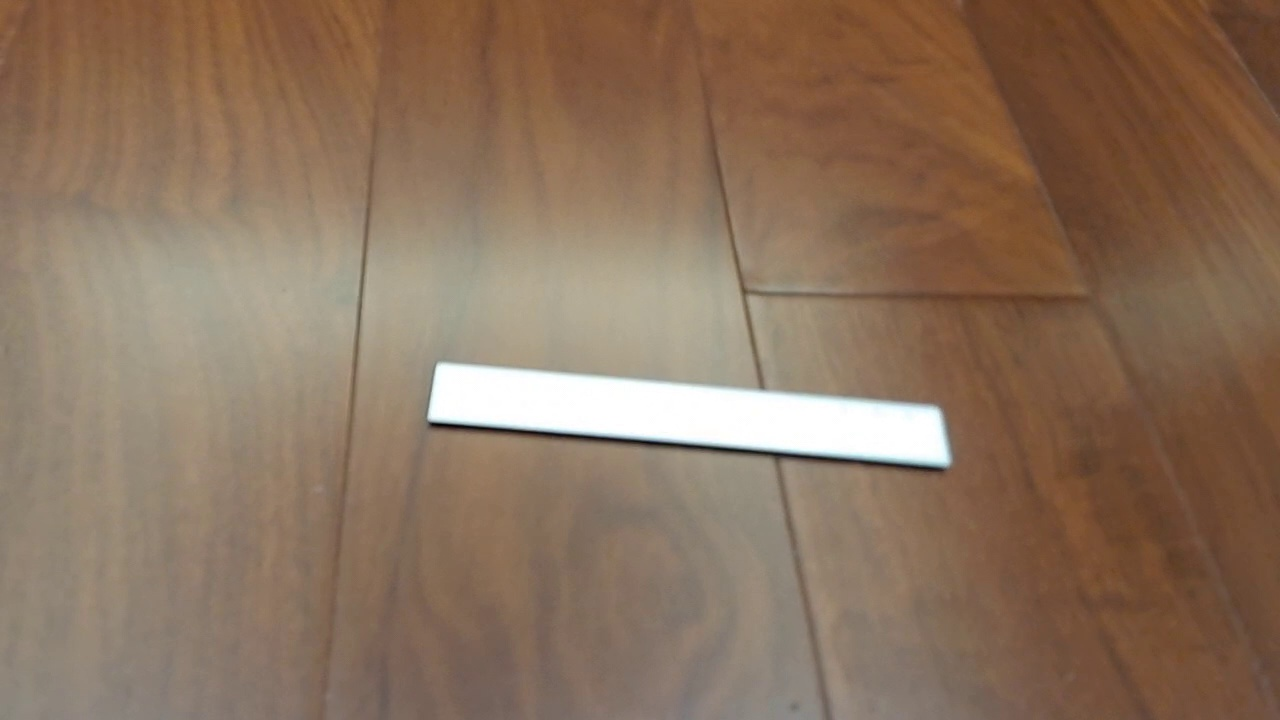ruler: (424, 359, 955, 472)
